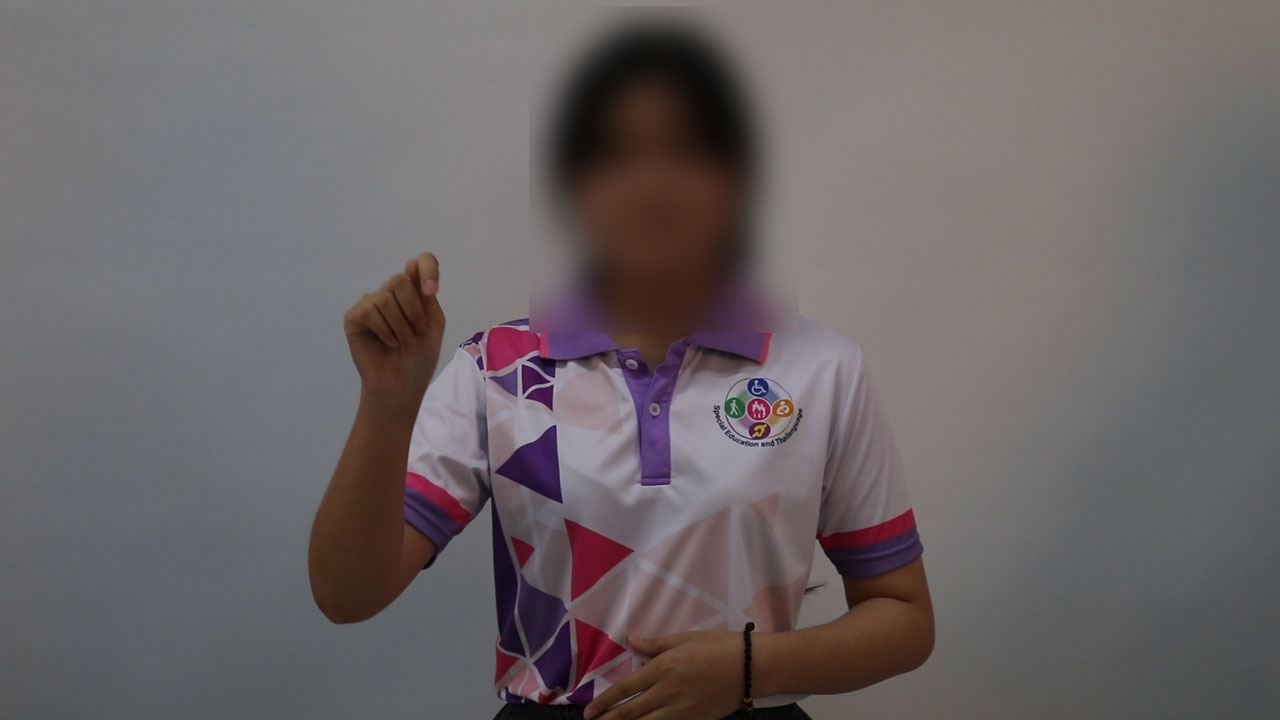tor: (321, 239, 484, 435)
